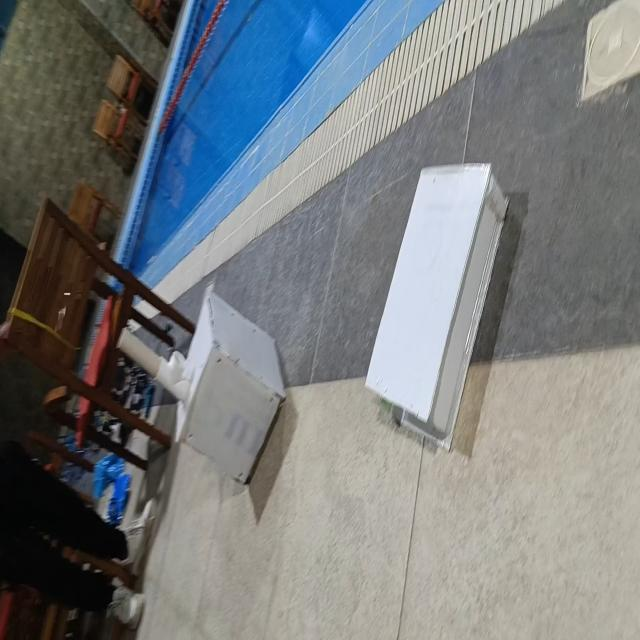Cube: (172, 288, 287, 485)
Cuboid: (363, 159, 510, 451)
